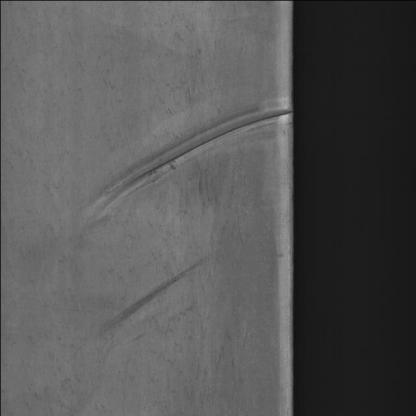crease: (74, 68, 291, 245)
